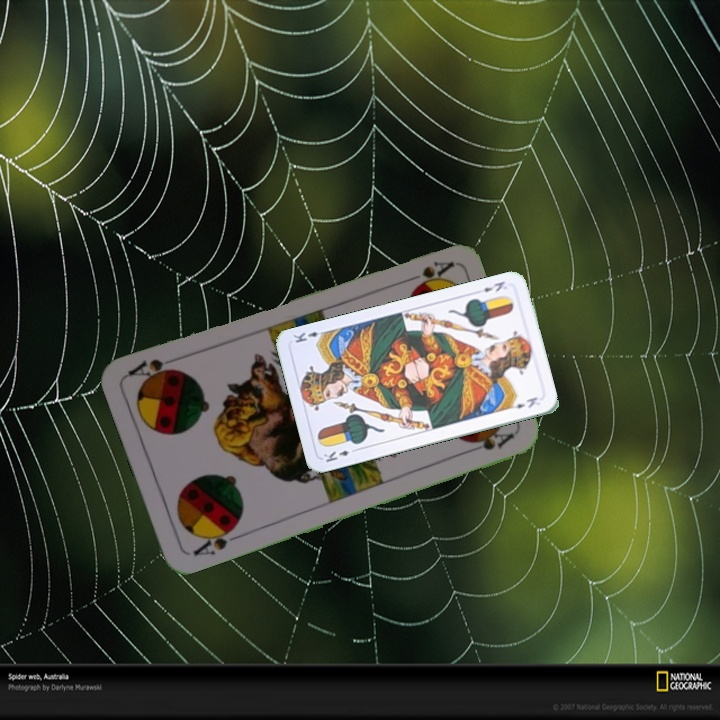EK: (319, 444, 360, 465), (472, 277, 507, 295)
SA: (189, 521, 243, 559), (398, 257, 455, 290)
